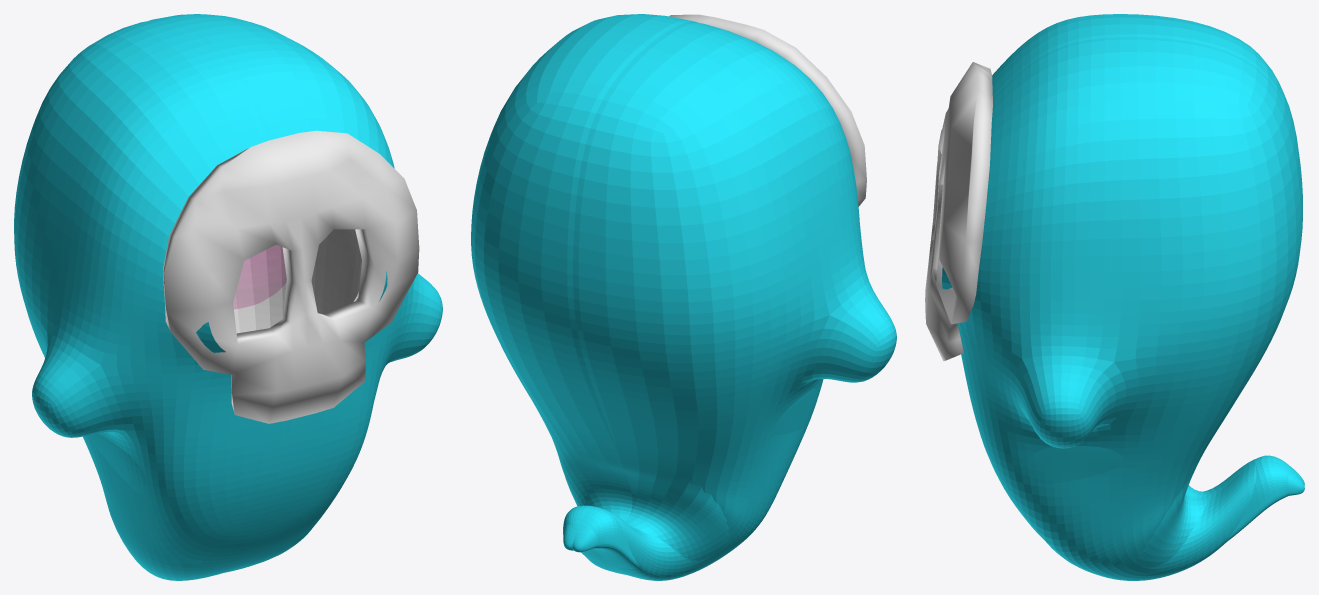
Rendered from Ghost.fbx.
3 views of the same model, side by side, from view 1: azimuth 30°, elevation 25°; view 2: azimuth 150°, elevation 25°; view 3: azimuth 270°, elevation 25° (orthographic).
Visible parts, largest first — view 1: Cube, Plane, Cube.001, Sphere; view 2: Cube, Plane; view 3: Cube, Plane.
Part boxes in pixels (x1,y1,x2,y2): Cube: (14, 14, 442, 580); Plane: (163, 130, 419, 423); Cube.001: (233, 229, 361, 333); Sphere: (233, 245, 286, 308); Cube: (471, 14, 896, 580); Plane: (669, 14, 866, 206); Cube: (942, 14, 1304, 580); Plane: (925, 62, 992, 361).
Size of the model in its own units: 243 by 307 by 199.
